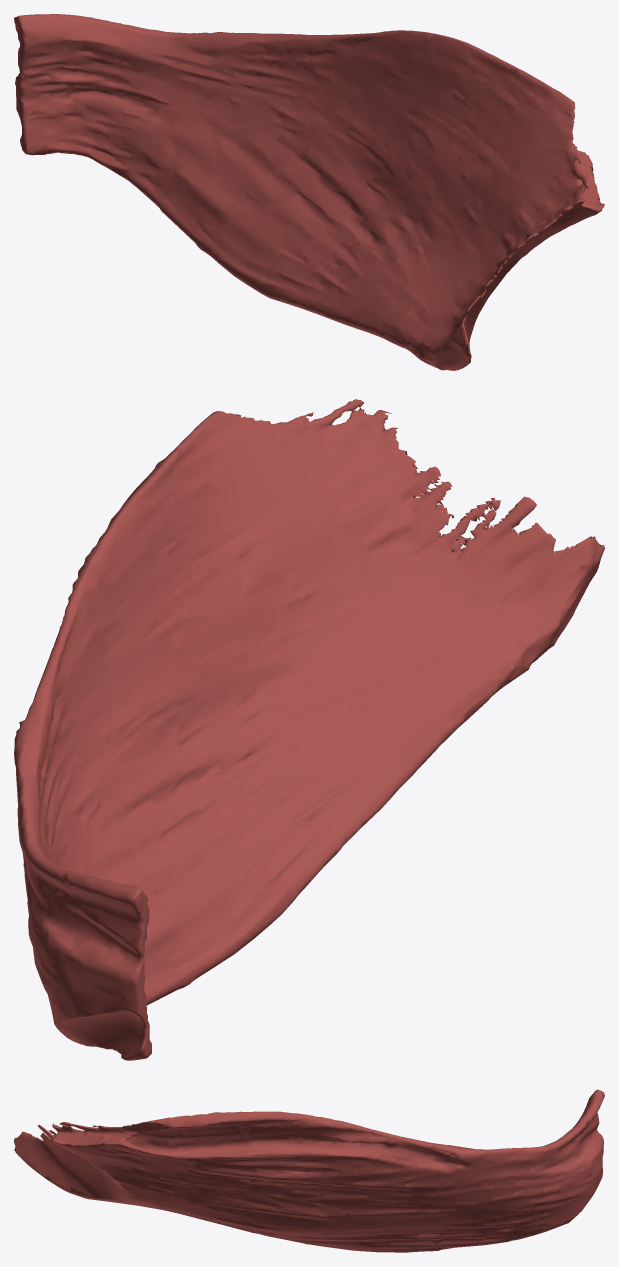
The model's file is FMA45857.glb.
3 renders of one model, top to bottom at view 1: azimuth 30°, elevation 25°; view 2: azimuth 150°, elevation 25°; view 3: azimuth 270°, elevation 25°, orthographic. The views are drawn at different scales.
Parts seen in each view (by area): view 1: FMA45857; view 2: FMA45857; view 3: FMA45857.
Boxes of the visible parts, box(x1,y1,x2,y2) form: FMA45857: box(14, 14, 604, 370); FMA45857: box(14, 399, 604, 1060); FMA45857: box(14, 1089, 604, 1252).
Bounding box in the file's own units: 0.0293 × 0.0292 × 0.0814.
